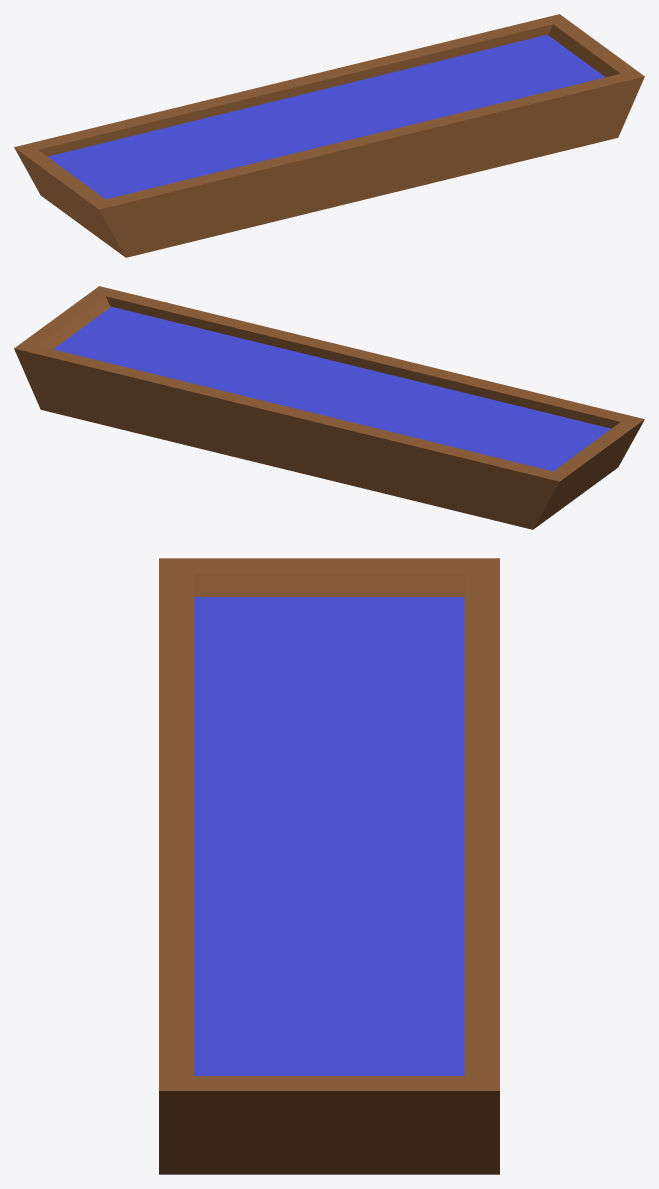
The model's file is Waterplace.fbx.
The picture shows the model from 3 angles, top to bottom: view 1: azimuth 30°, elevation 25°; view 2: azimuth 150°, elevation 25°; view 3: azimuth 270°, elevation 25°; orthographic projection. The views are drawn at different scales.
Visible parts, largest first — view 1: Waterplace; view 2: Waterplace; view 3: Waterplace.
Boxes of the visible parts, box(x1,y1,x2,y2) form: Waterplace: box(14, 14, 644, 257); Waterplace: box(14, 286, 644, 529); Waterplace: box(159, 558, 499, 1174).
Size of the model in its own units: 222 by 21.27 by 60.
